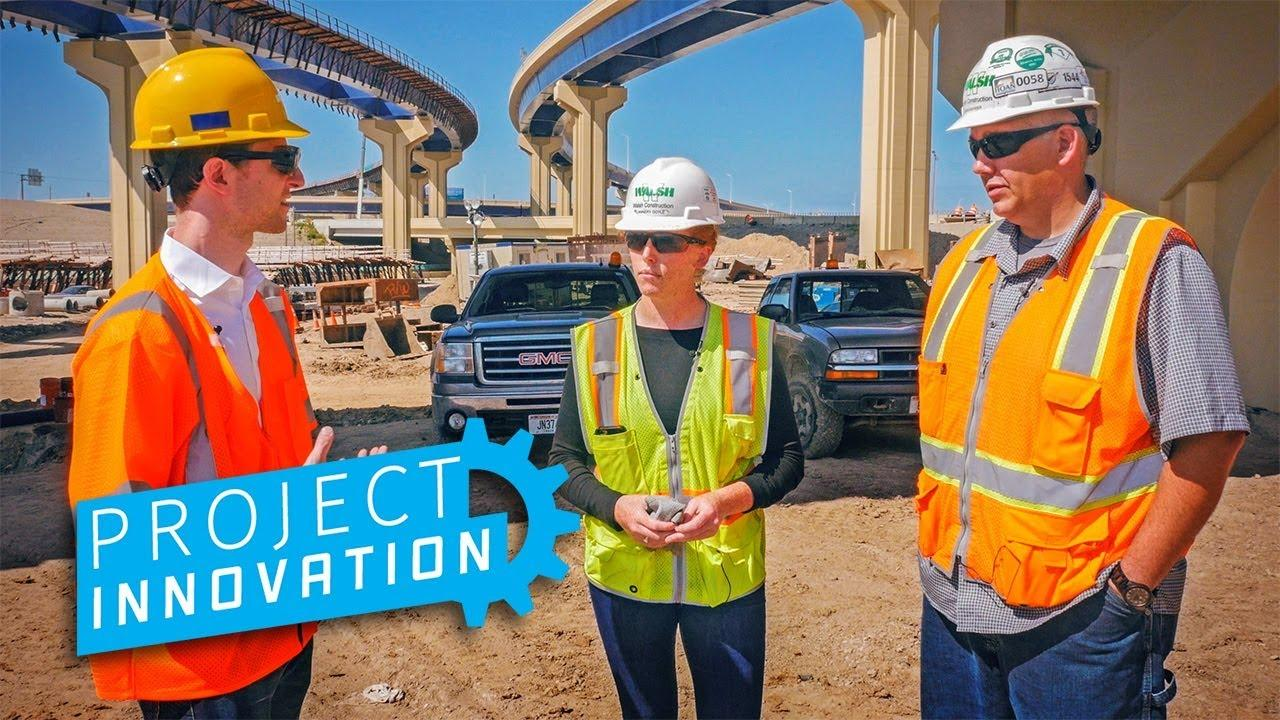helmet: (129, 47, 308, 147), (950, 29, 1097, 130), (614, 154, 728, 231)
